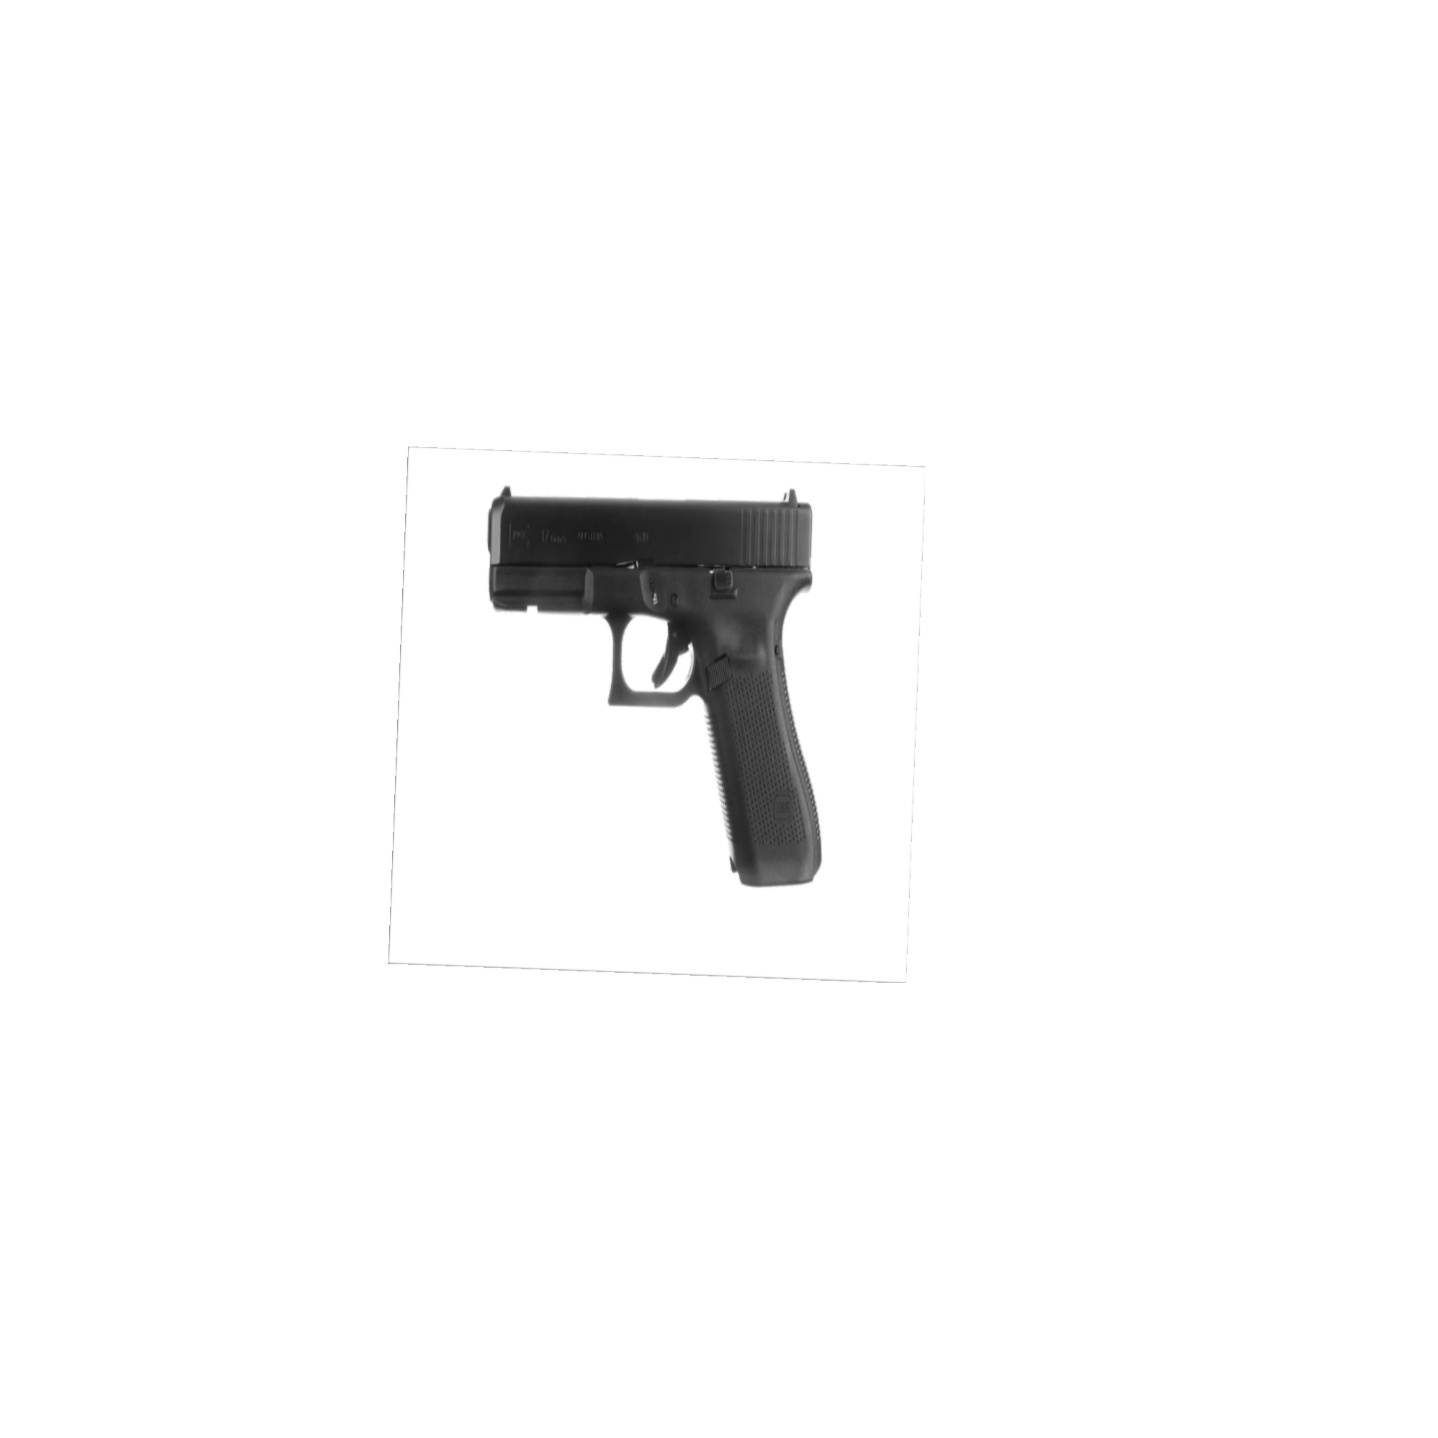gun: (474, 475, 845, 901)
